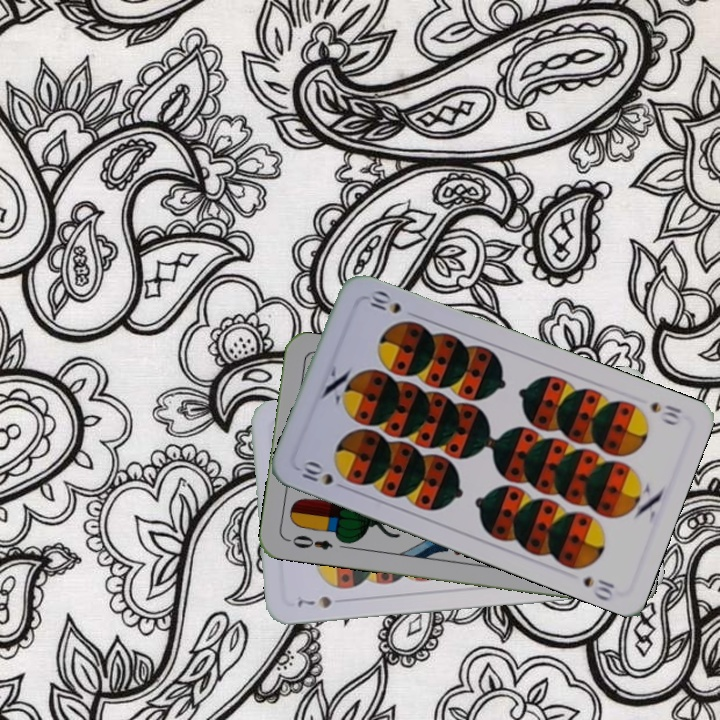EO: (283, 531, 335, 553)
S10: (294, 457, 351, 493), (646, 397, 684, 428)
S7: (293, 592, 334, 611)
